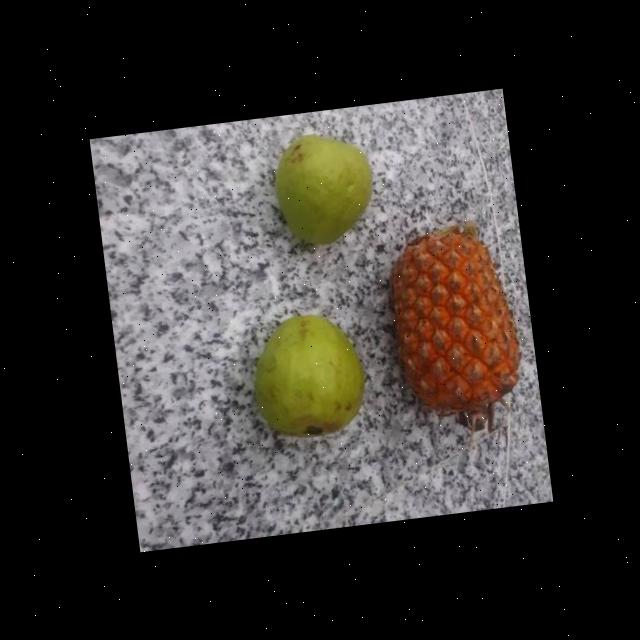guava: (249, 311, 368, 447), (272, 128, 376, 252)
pineapple: (380, 214, 528, 426)
